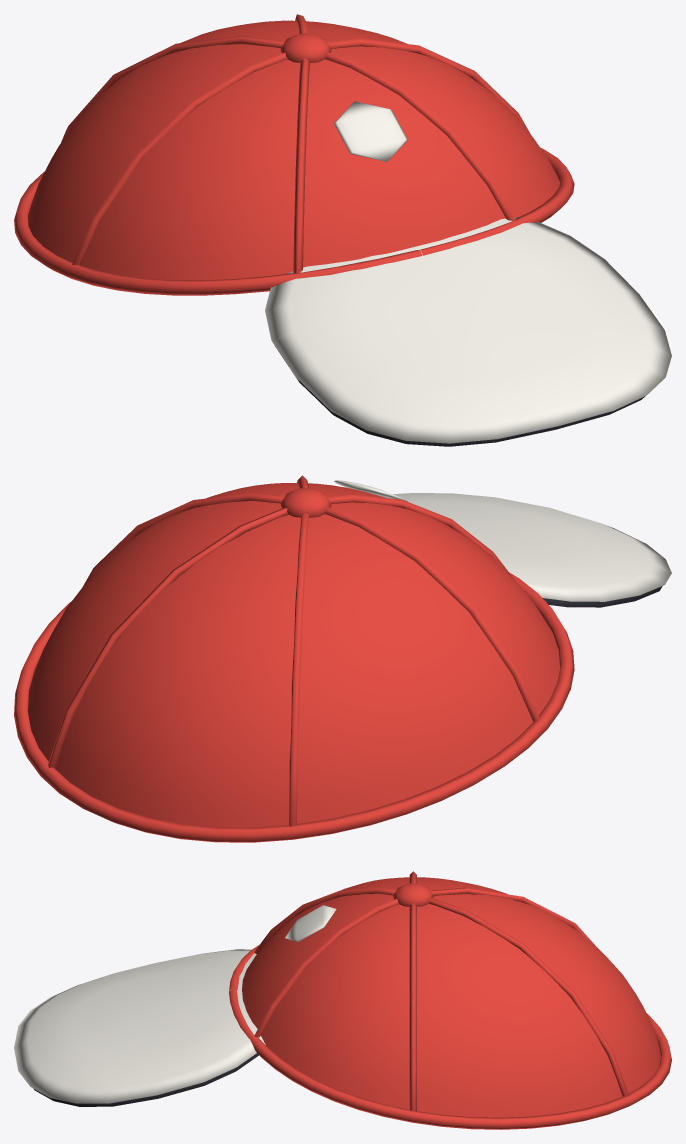
File: hat_cap.glb
3 views of the same model, one above another, from view 1: azimuth 30°, elevation 25°; view 2: azimuth 150°, elevation 25°; view 3: azimuth 270°, elevation 25° (orthographic). The views are drawn at different scales.
Visible parts, largest first — view 1: HatCap; view 2: HatCap; view 3: HatCap.
Part boxes in pixels (x1,y1,x2,y2): HatCap: (14, 14, 671, 446); HatCap: (14, 475, 671, 842); HatCap: (14, 871, 671, 1129).
Bounding box in the file's own units: 0.5211 × 0.2315 × 0.7772.
